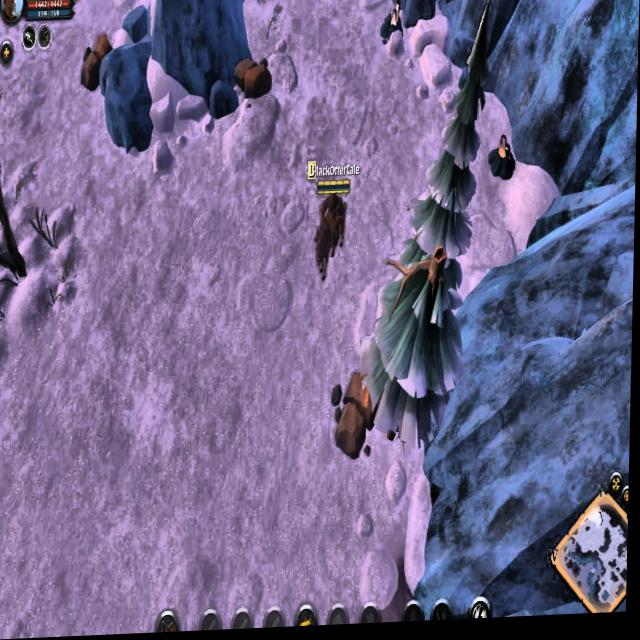copperore: (486, 129, 517, 189), (379, 0, 406, 46)
limestone: (335, 374, 381, 464), (79, 29, 115, 95), (231, 57, 276, 102)
